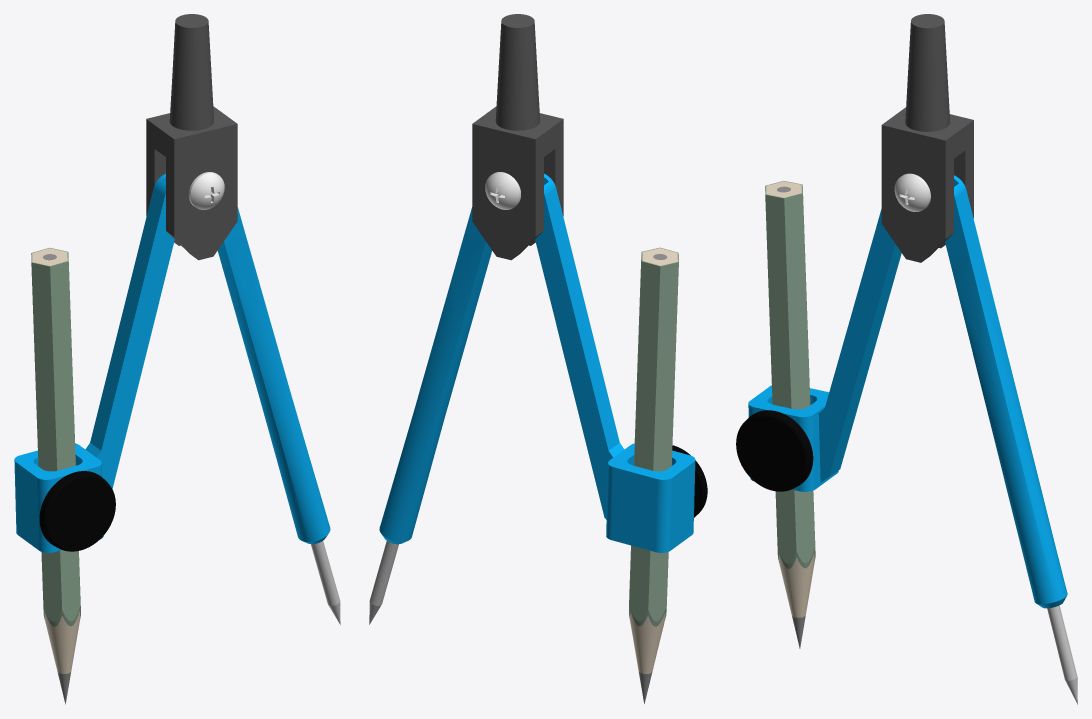
Rendered from 249_コンパス.glb.
The picture shows the model from 3 angles, left to right: view 1: azimuth 30°, elevation 25°; view 2: azimuth 150°, elevation 25°; view 3: azimuth 330°, elevation 25°; orthographic projection.
Visible parts, largest first — view 1: Body, Body.001; view 2: Body, Body.001; view 3: Body, Body.001.
Boxes of the visible parts, left/top/right/bottom form: Body: left=14, top=14, right=340, bottom=624; Body.001: left=31, top=247, right=80, bottom=704; Body: left=369, top=14, right=707, bottom=624; Body.001: left=629, top=247, right=678, bottom=703; Body: left=736, top=14, right=1077, bottom=704; Body.001: left=765, top=180, right=815, bottom=648.
Size of the model in its own units: 0.0655 by 0.1286 by 0.0153.
